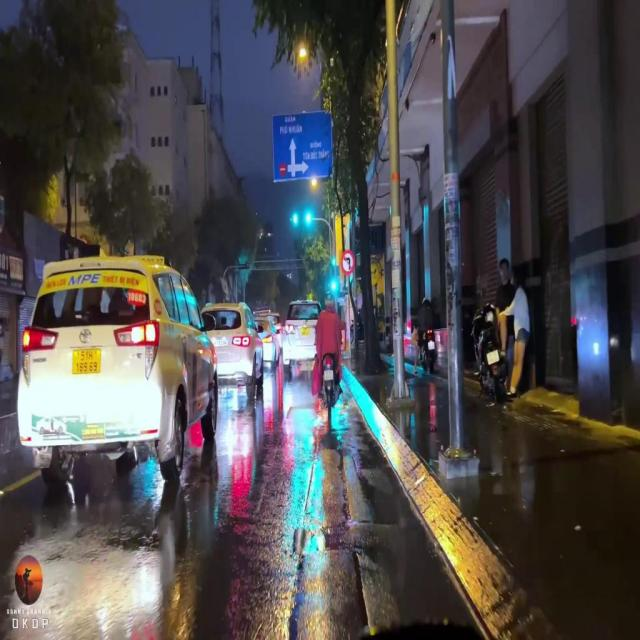cam_re_trai: (341, 249, 355, 275)
khac: (272, 112, 333, 182)
